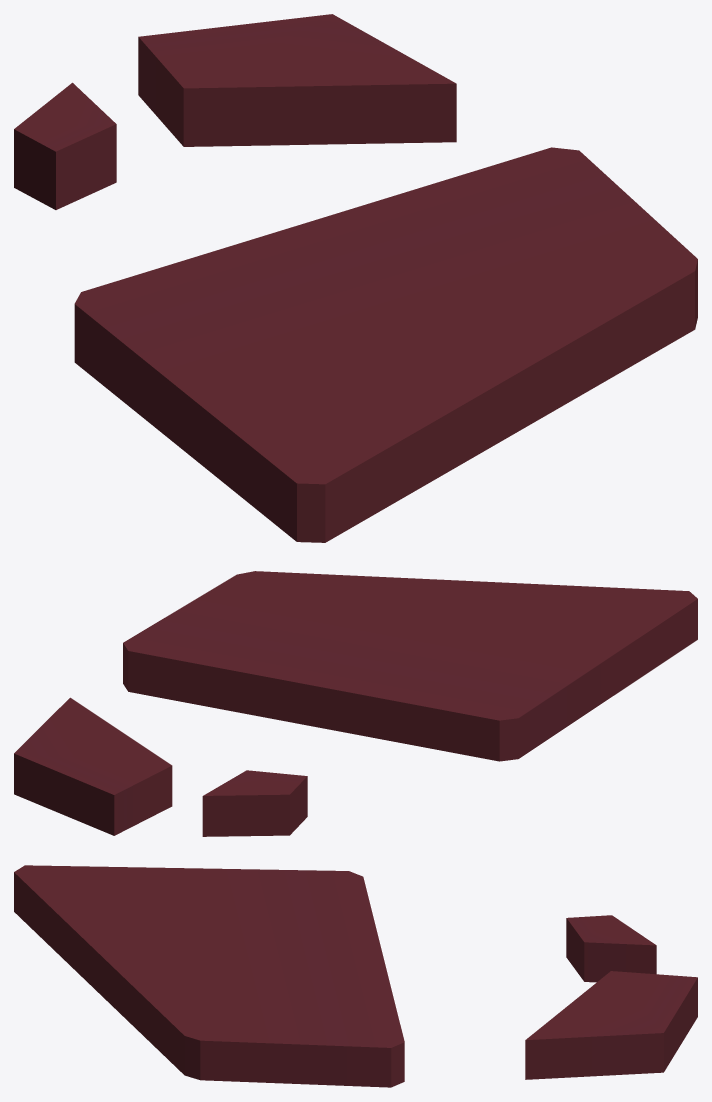
The model's file is rock_002.fbx.
The picture shows the model from 3 angles, top to bottom: view 1: azimuth 30°, elevation 25°; view 2: azimuth 150°, elevation 25°; view 3: azimuth 270°, elevation 25°; orthographic projection. The views are drawn at different scales.
Visible parts, largest first — view 1: rock_002; view 2: rock_002; view 3: rock_002.
Boxes of the visible parts, left/top/right/bottom form: rock_002: left=14, top=14, right=697, bottom=542; rock_002: left=14, top=571, right=697, bottom=836; rock_002: left=14, top=865, right=697, bottom=1087.
Bounding box in the file's own units: 46.59 × 4.72 × 73.74.
